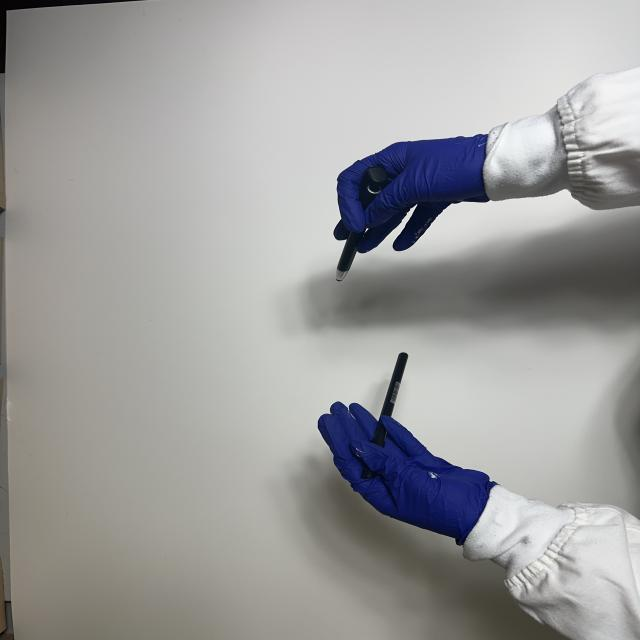gloves_contaminated: (319, 403, 493, 542), (334, 135, 489, 252)
